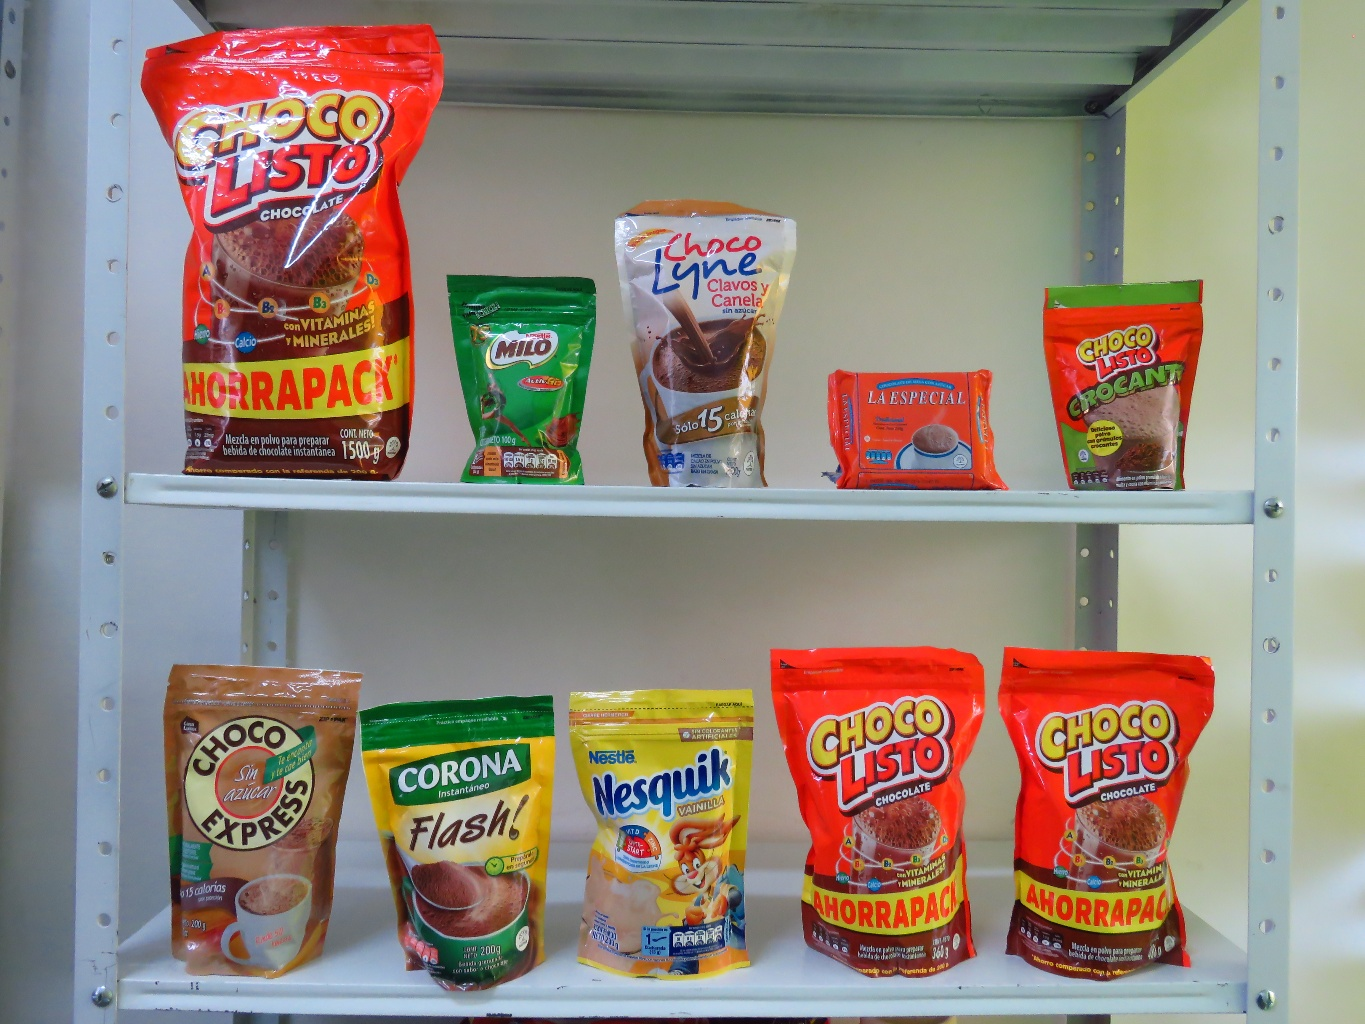COL0170102DYP10000: (1024, 267, 1241, 502)
COL0170103DYP1,500: (122, 13, 447, 493)
COL0170103DYP36000: (762, 630, 997, 978)
COL0170103DYP40000: (987, 627, 1224, 983)
COL0170203DYP10000: (440, 264, 606, 492)
COL0170306DYP20000: (554, 675, 778, 984)
